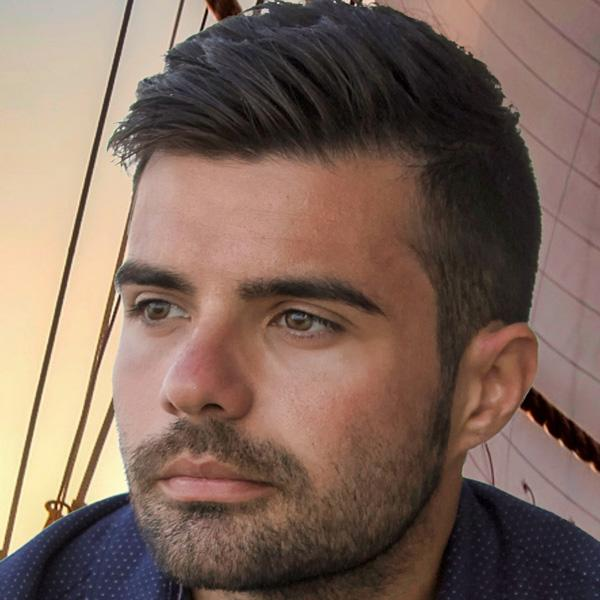Eyes: (254, 295, 352, 348), (119, 283, 201, 337)
